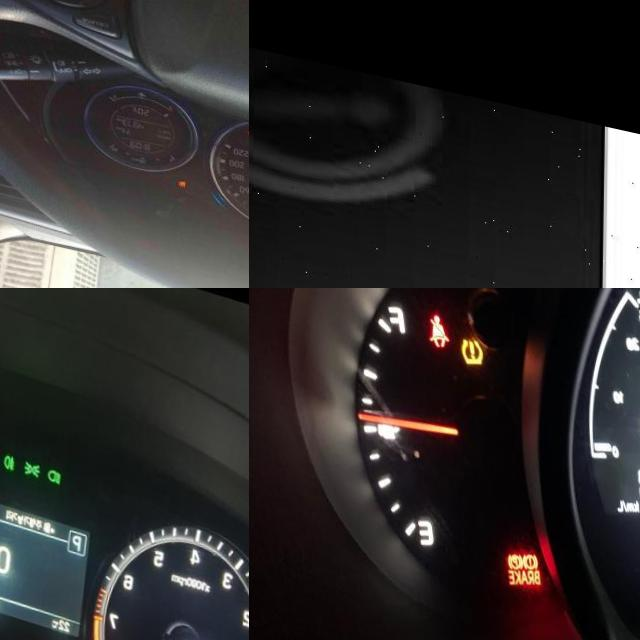FrontFogLight: (5, 439, 17, 458)
Low beam: (49, 452, 64, 470)
SideLamp: (25, 445, 43, 465)
